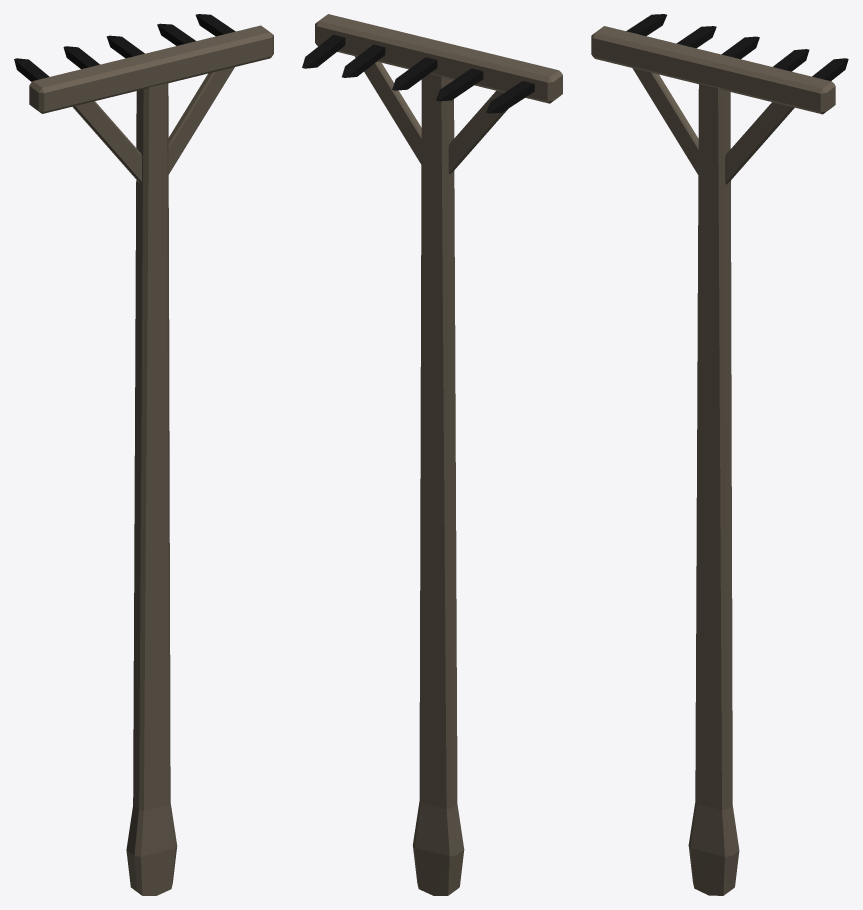
The model's file is rake.glb.
3 renders of one model, left to right at view 1: azimuth 30°, elevation 25°; view 2: azimuth 150°, elevation 25°; view 3: azimuth 330°, elevation 25°, orthographic.
Parts seen in each view (by area): view 1: Rake; view 2: Rake; view 3: Rake.
Boxes of the visible parts, x1,y1,x2,y2 form: Rake: (14,14,273,895); Rake: (302,14,562,895); Rake: (591,14,848,895).
Bounding box in the file's own units: 0.4029 × 1.37 × 0.1511.
1 material, 1 textured.
